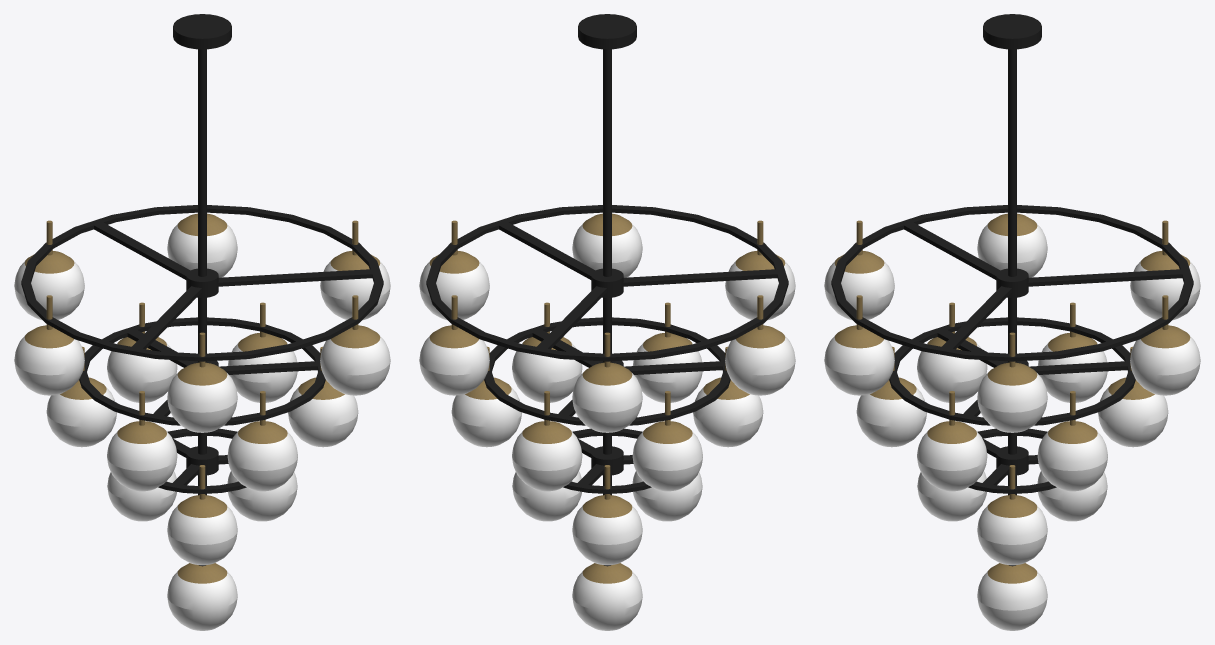
The model's file is lustre_dining_room.dae.
3 views of the same model, side by side, from view 1: azimuth 30°, elevation 25°; view 2: azimuth 150°, elevation 25°; view 3: azimuth 270°, elevation 25° (orthographic).
Parts seen in each view (by area): view 1: Component_1 (×27), group_0 (×2), group_1 (×4), group_5 (×2), group_8, group_6, group_7, group_10, group_3; view 2: Component_1 (×27), group_0 (×2), group_1 (×4), group_5 (×2), group_7, group_8, group_6, group_11, group_3; view 3: Component_1 (×27), group_0 (×2), group_1 (×4), group_5 (×2), group_6, group_7, group_8, group_12, group_3.
Boxes of the visible parts, x1,y1,x2,y2 form: Component_1 (×27): (14, 213, 390, 630); group_0 (×2): (21, 205, 383, 361); group_1 (×4): (173, 14, 231, 566); group_5 (×2): (79, 317, 325, 425); group_8: (218, 269, 372, 286); group_6: (94, 222, 190, 279); group_7: (132, 286, 201, 349); group_10: (219, 361, 317, 374); group_3: (158, 428, 246, 493); Component_1 (×27): (419, 213, 795, 630); group_0 (×2): (426, 205, 788, 361); group_1 (×4): (578, 14, 636, 566); group_5 (×2): (484, 317, 730, 425); group_7: (623, 269, 777, 286); group_8: (499, 222, 595, 279); group_6: (537, 286, 606, 349); group_11: (624, 361, 722, 374); group_3: (563, 428, 651, 493); Component_1 (×27): (824, 213, 1200, 630); group_0 (×2): (831, 205, 1193, 361); group_1 (×4): (983, 14, 1041, 566); group_5 (×2): (889, 317, 1135, 425); group_6: (1028, 269, 1182, 286); group_7: (904, 222, 1000, 279); group_8: (942, 286, 1011, 349); group_12: (1029, 361, 1127, 374); group_3: (968, 428, 1056, 493).
Bounding box in the file's own units: 36 × 31.98 × 56.38.
Materials: 3 (1 with a texture image).
